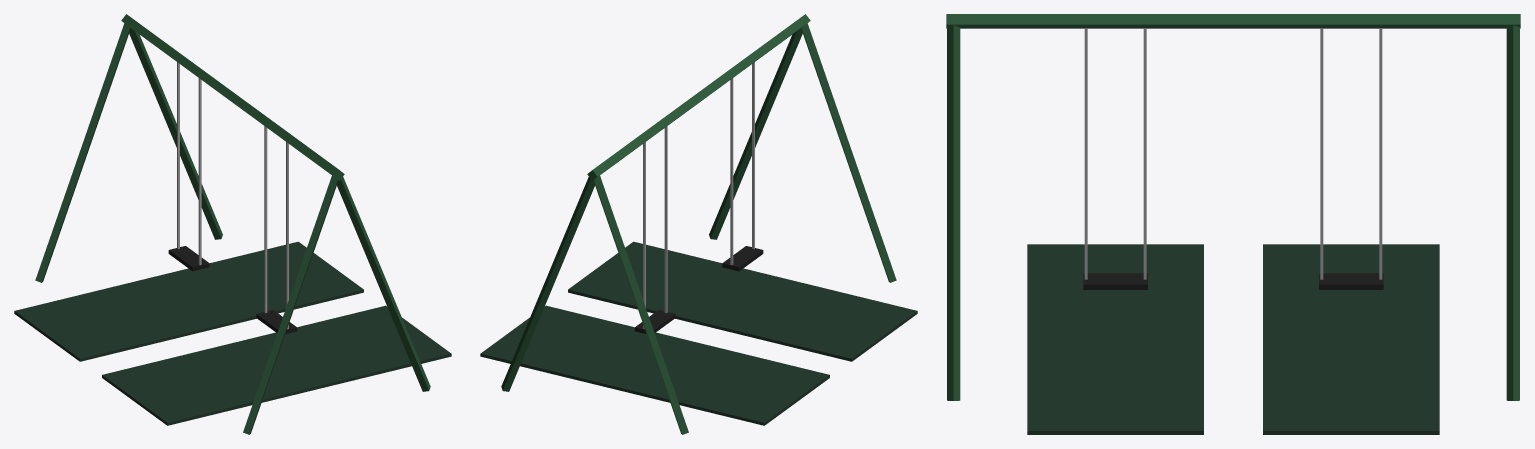
The model's file is SM_Prop_play_swings_0_LOD1.glb.
3 views of the same model, side by side, from view 1: azimuth 30°, elevation 25°; view 2: azimuth 150°, elevation 25°; view 3: azimuth 270°, elevation 25° (orthographic). The views are drawn at different scales.
Visible parts, largest first — view 1: SM_Prop_play_swings_0_LOD1; view 2: SM_Prop_play_swings_0_LOD1; view 3: SM_Prop_play_swings_0_LOD1.
Part boxes in pixels (<box>): SM_Prop_play_swings_0_LOD1: <box>14,14,451,434</box>; SM_Prop_play_swings_0_LOD1: <box>480,14,917,434</box>; SM_Prop_play_swings_0_LOD1: <box>946,14,1520,434</box>.
Size of the model in its own units: 3 by 2.47 by 3.9.
